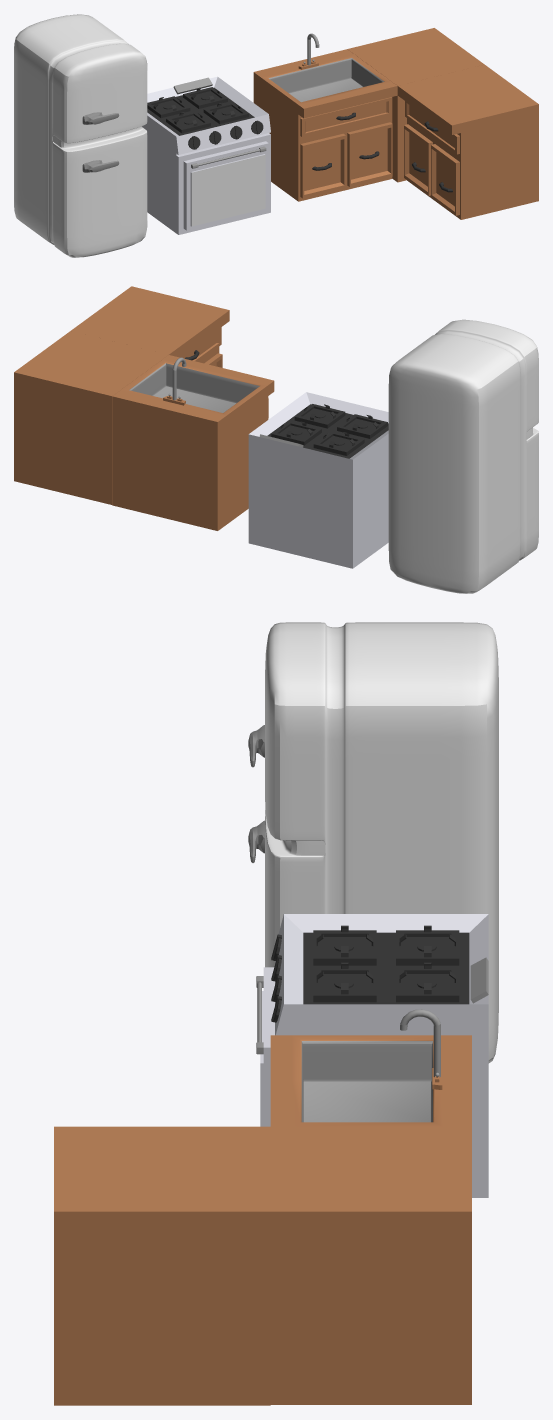
Rendered from Low Poly Kitchen Asset Pack.fbx.
3 views of the same model, one above another, from view 1: azimuth 30°, elevation 25°; view 2: azimuth 150°, elevation 25°; view 3: azimuth 270°, elevation 25° (orthographic). The views are drawn at different scales.
Visible parts, largest first — view 1: Cube.001, Cube.004, Cube, Cube.005, Corner Cabinet, Cube.002, Cube.003; view 2: Cube.001, Cube, Cube.005, Corner Cabinet, Cube.004; view 3: Cube.001, Cube.004, Corner Cabinet, Cube.005, Cube.
Boxes of the visible parts, x1=… form: Cube.001: x1=14, y1=14, x2=147, y2=257; Cube.004: x1=397, y1=64, x2=538, y2=219; Cube: x1=253, y1=49, x2=397, y2=201; Cube.005: x1=142, y1=76, x2=270, y2=234; Corner Cabinet: x1=347, y1=28, x2=484, y2=182; Cube.002: x1=82, y1=112, x2=119, y2=124; Cube.003: x1=82, y1=160, x2=119, y2=172; Cube.001: x1=388, y1=319, x2=538, y2=593; Cube: x1=112, y1=355, x2=274, y2=530; Cube.005: x1=248, y1=392, x2=388, y2=568; Corner Cabinet: x1=14, y1=331, x2=168, y2=504; Cube.004: x1=71, y1=286, x2=229, y2=367; Cube.001: x1=265, y1=622, x2=498, y2=1063; Cube.004: x1=54, y1=1126, x2=270, y2=1405; Corner Cabinet: x1=270, y1=1126, x2=471, y2=1404; Cube.005: x1=256, y1=914, x2=488, y2=1197; Cube: x1=270, y1=1035, x2=471, y2=1126.
Bounding box in the file's own units: 240 × 108 × 111.
